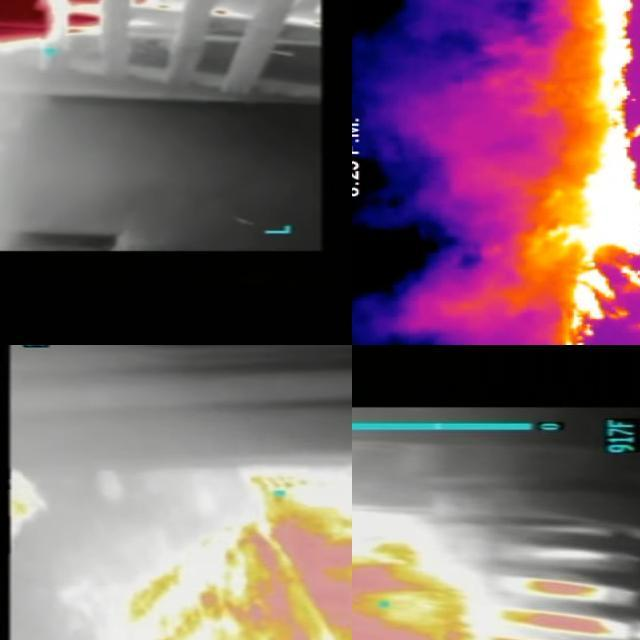fire: (50, 472, 353, 640), (530, 1, 640, 346), (353, 472, 476, 640)
